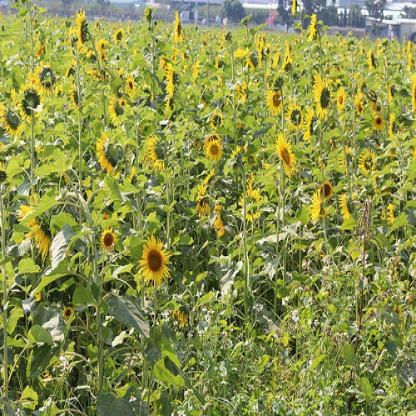SUN FLOWER: (13, 7, 399, 397)
